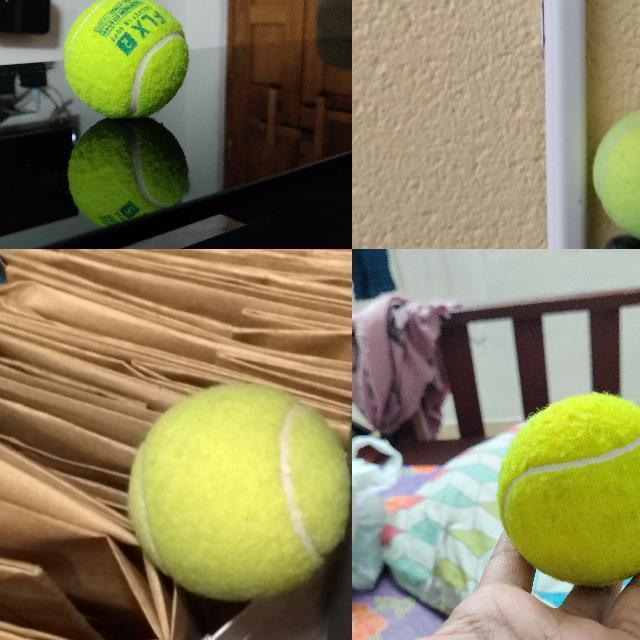tennis-ball: (125, 382, 351, 604), (495, 390, 639, 588), (63, 0, 190, 118), (590, 106, 639, 247)
